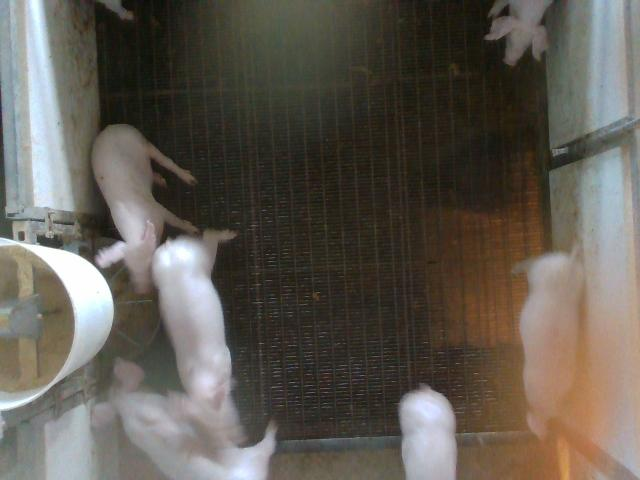pig-3: (91, 358, 276, 479)
pig-4: (520, 252, 584, 439)
